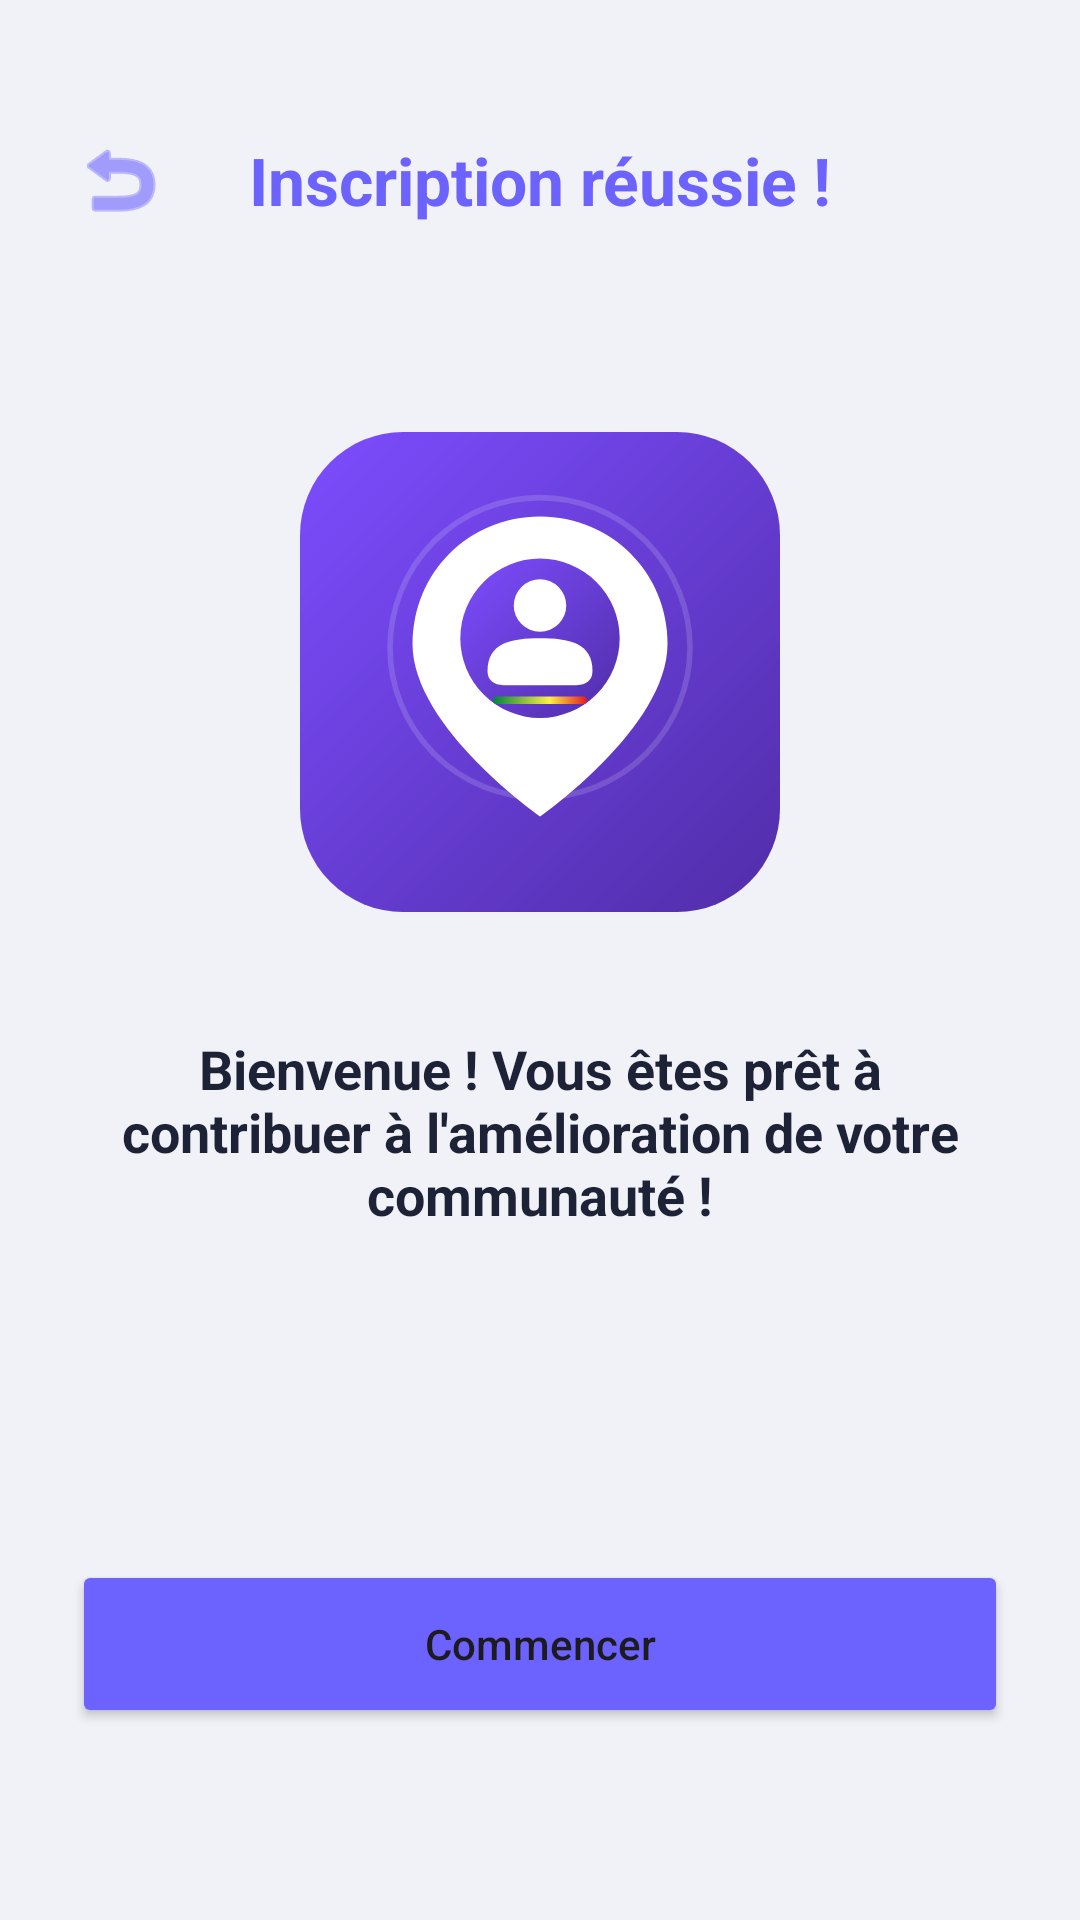

Point at icon controls on the screen. Image size 1080×1920, points as point (x, y).
revert: point (121, 181)
